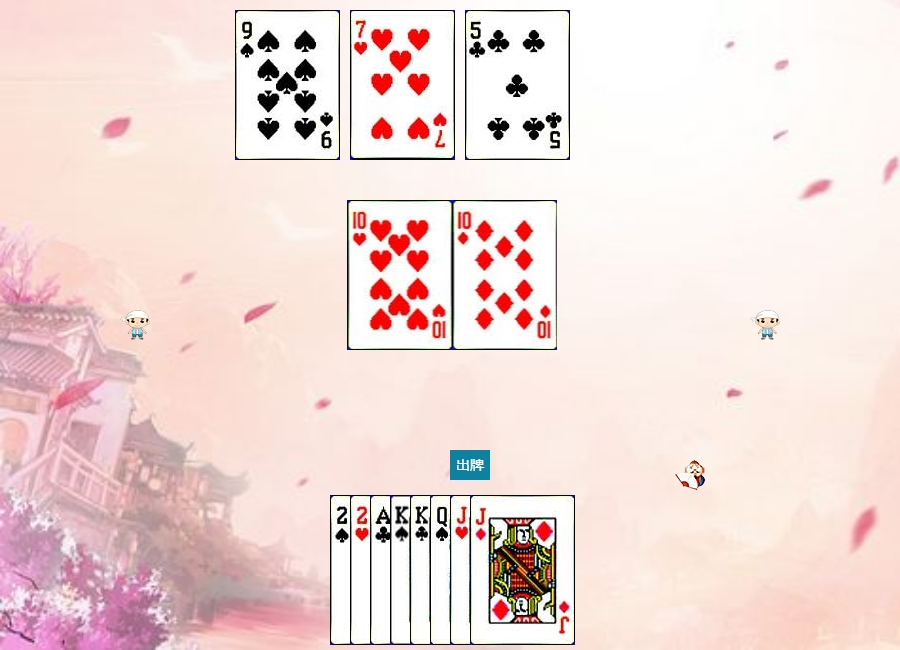10~1: (453, 200, 558, 350)
10~3: (348, 200, 453, 350)
11~1: (470, 495, 575, 645)
11~3: (450, 495, 555, 645)
12~4: (430, 495, 535, 645)
13~2: (410, 495, 515, 645)
13~4: (390, 495, 495, 645)
14~2: (370, 495, 475, 645)
15~3: (350, 495, 455, 645)
15~4: (330, 495, 435, 645)
5~2: (465, 10, 570, 160)
7~3: (350, 10, 455, 160)
9~4: (235, 10, 340, 160)
